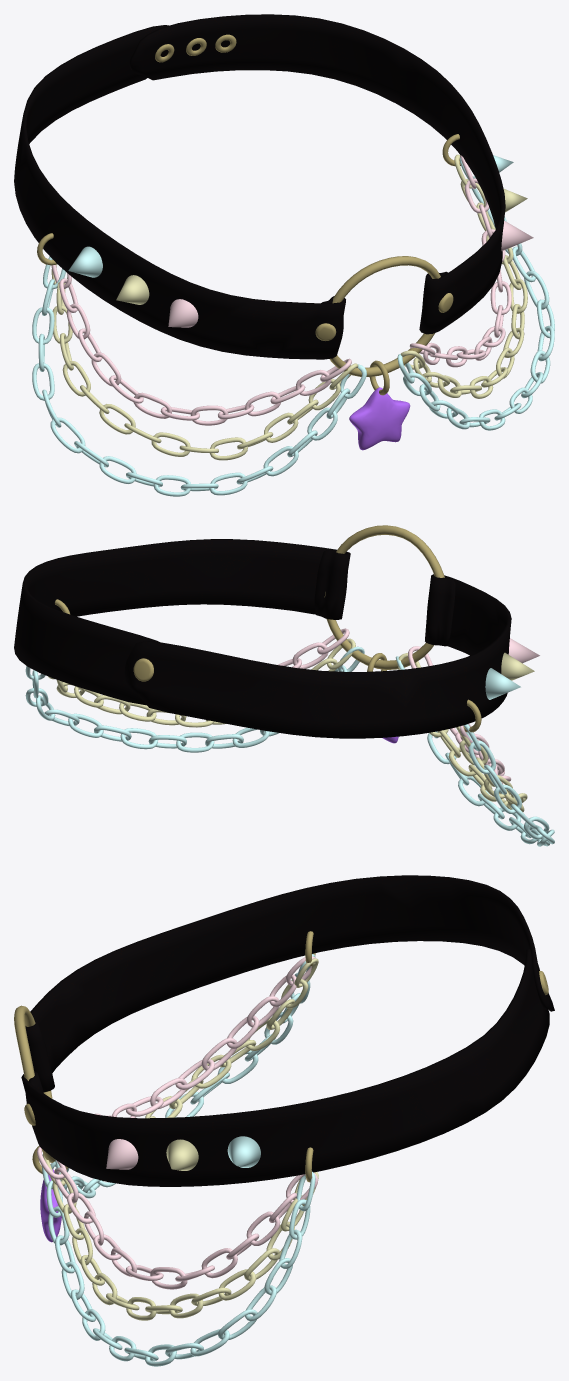
File: choker.glb
3 views of the same model, one above another, from view 1: azimuth 30°, elevation 25°; view 2: azimuth 150°, elevation 25°; view 3: azimuth 270°, elevation 25° (orthographic). The views are drawn at different scales.
Visible parts, largest first — view 1: choker_Leather_0, choker_Metal_0; view 2: choker_Leather_0, choker_Metal_0; view 3: choker_Leather_0, choker_Metal_0.
Part boxes in pixels (x1,y1,x2,y2): choker_Leather_0: (14,14,505,359); choker_Metal_0: (32,34,554,496); choker_Leather_0: (14,539,511,738); choker_Metal_0: (25,525,554,846); choker_Leather_0: (21,875,554,1186); choker_Metal_0: (14,931,548,1366).
Bounding box in the file's own units: 0.1162 × 0.0642 × 0.0999.
2 materials, 2 textured.
